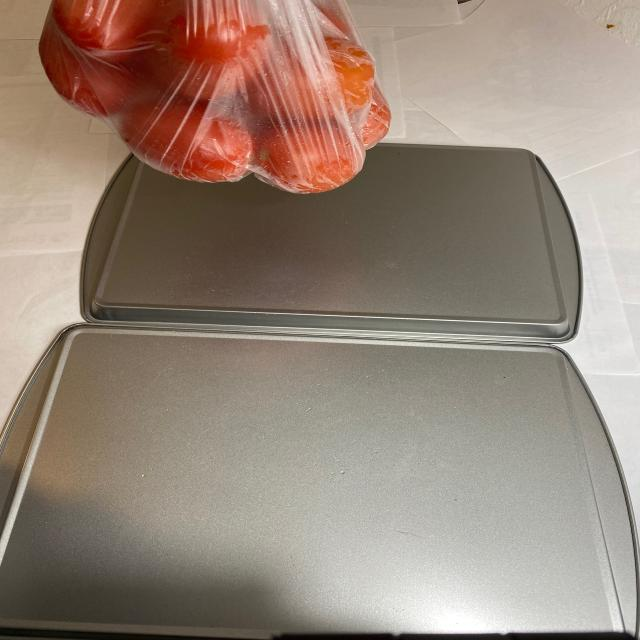tomato: (36, 1, 392, 197)
